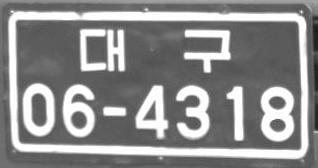0: (22, 81, 55, 138)
1: (221, 85, 255, 140)
3: (175, 83, 211, 140)
4: (134, 85, 169, 139)
6: (62, 83, 96, 139)
8: (260, 85, 294, 143)
대구_D: (79, 26, 230, 73)
